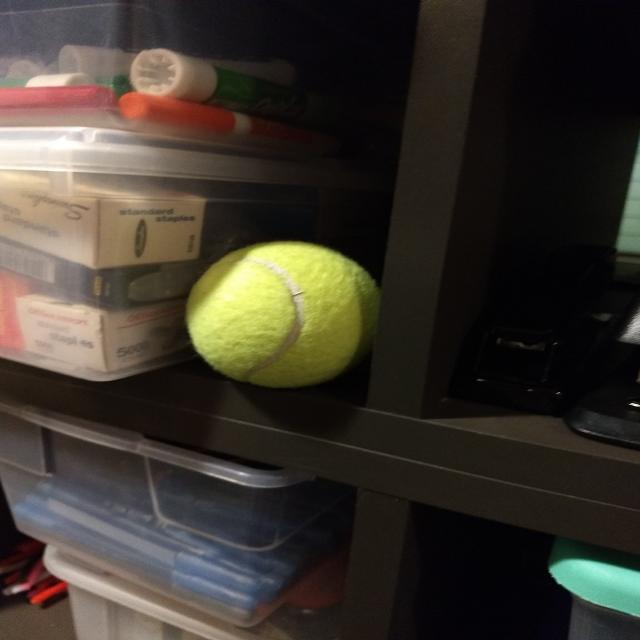Tennis-Ball: (182, 237, 382, 391)
